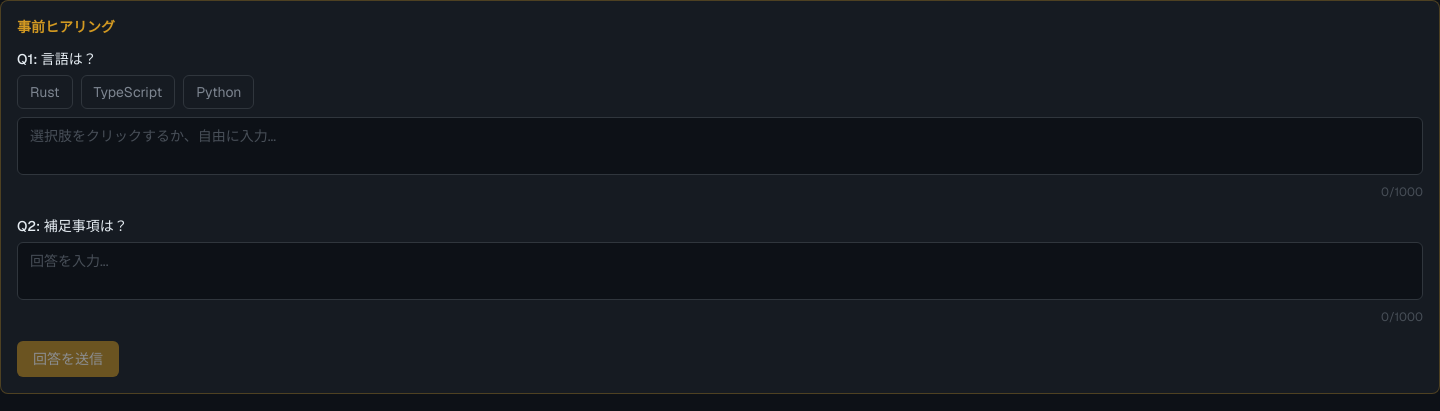
Scenario: HearingPanel › 全質問回答済みで送信ボタンが有効になる
This screenshot has width=1440, height=411.
Expected: the button "回答を送信" is disabled, [17,341,119,377]
Type "Rust" into the text box with placeholder "選択肢をクリックするか、自由に入力..." at (720, 146), box [17,117,1423,175]
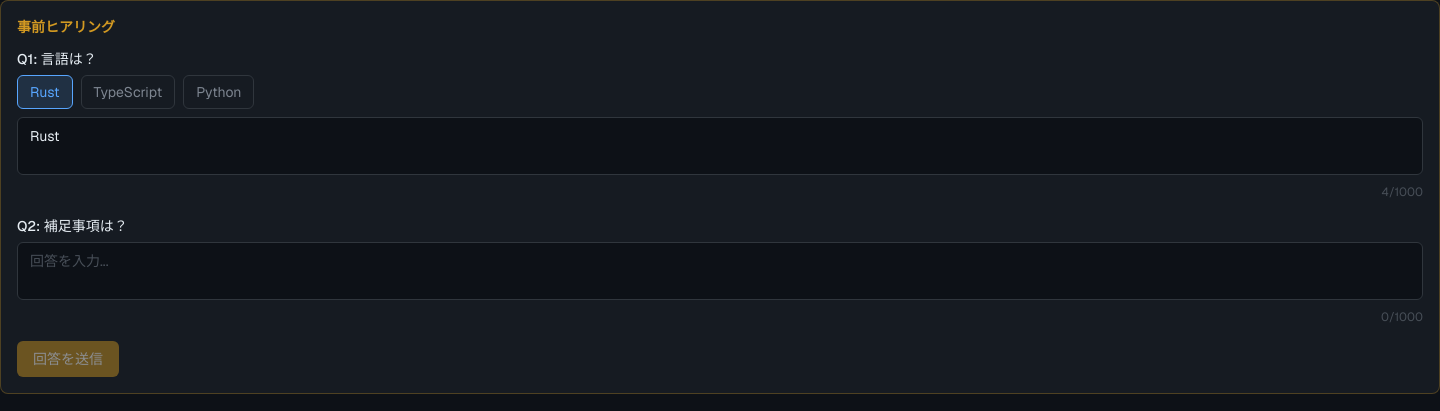
Type "特になし" into the text box with placeholder "回答を入力..." at (720, 271), box [17,242,1423,300]
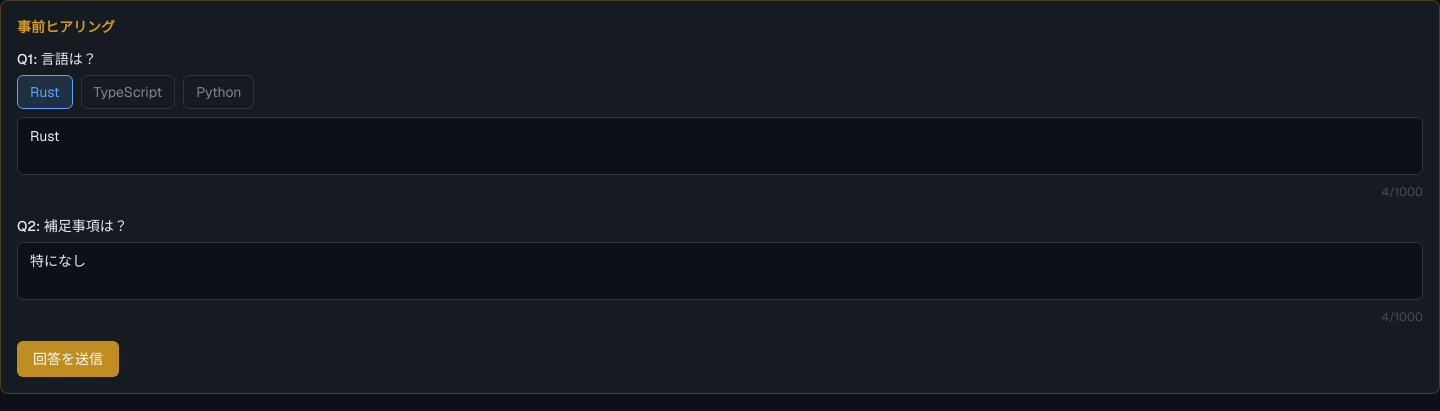
Now the button "回答を送信" is enabled, box [17,341,119,377]
